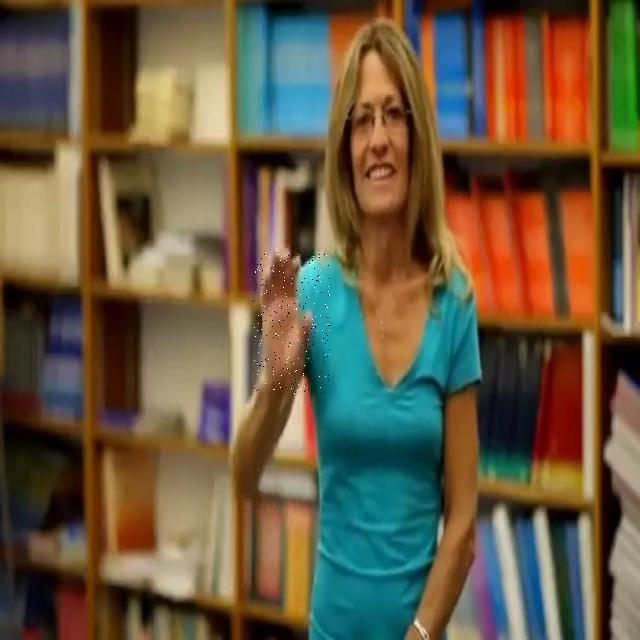pepper: (252, 254, 330, 394)
